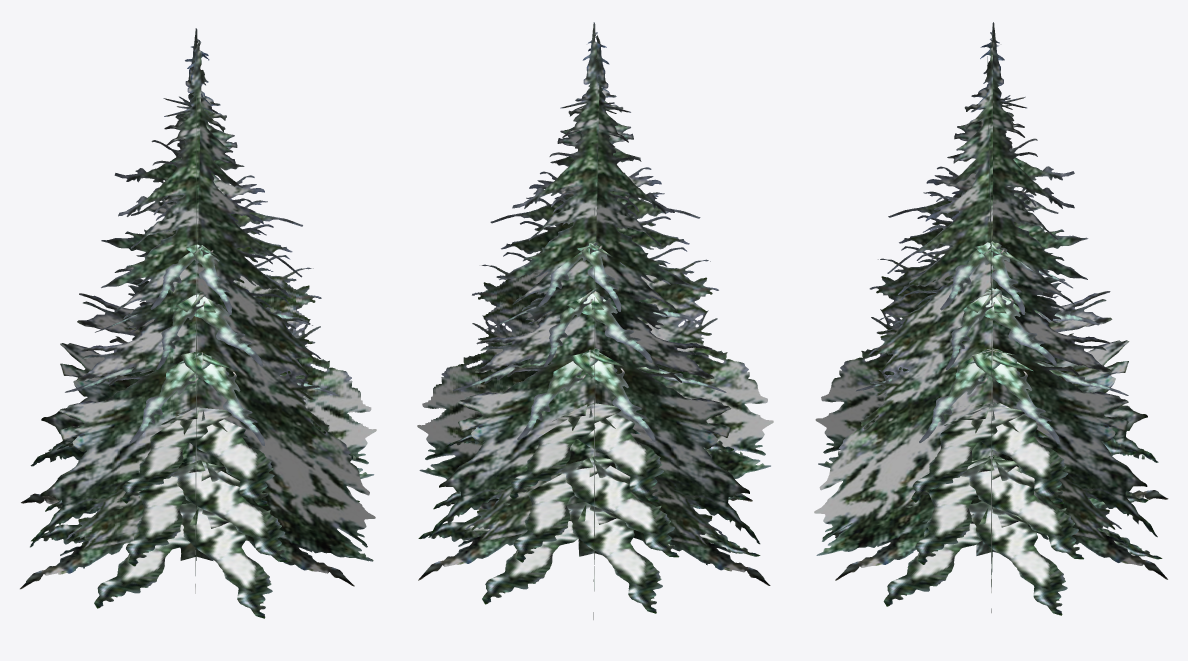
Rendered from arbol.obj.
3 views of the same model, side by side, from view 1: azimuth 30°, elevation 25°; view 2: azimuth 150°, elevation 25°; view 3: azimuth 270°, elevation 25° (orthographic).
Parts seen in each view (by area): view 1: Malla de Mesh39 Model, Malla de Mesh37 Model, Malla de Mesh10 Group3 Group1 Model, Malla de Mesh7 Group3 Group1 Model, Malla de Mesh9 Group3 Group1 Model, Malla de Mesh15 Group4 Group1 Model, Malla de Mesh13 Group4 Group1 Model, Malla de Mesh16 Group4 Group1 Model, Malla de Mesh11 Group3 Group1 Model, Malla de Mesh17 Group4 Group1 Model, Malla de Mesh12 Group3 Group1 Model, Malla de Mesh8 Group3 Group1 Model (+4 smaller); view 2: Malla de Mesh38 Model, Malla de Mesh37 Model, Malla de Mesh22 Group5 Group1 Model, Malla de Mesh19 Group5 Group1 Model, Malla de Mesh21 Group5 Group1 Model, Malla de Mesh27 Group6 Group1 Model, Malla de Mesh25 Group6 Group1 Model, Malla de Mesh28 Group6 Group1 Model, Malla de Mesh23 Group5 Group1 Model, Malla de Mesh29 Group6 Group1 Model, Malla de Mesh24 Group5 Group1 Model, Malla de Mesh34 Group7 Group1 Model (+5 smaller); view 3: Malla de Mesh39 Model, Malla de Mesh38 Model, Malla de Mesh34 Group7 Group1 Model, Malla de Mesh31 Group7 Group1 Model, Malla de Mesh33 Group7 Group1 Model, Malla de Mesh3 Group2 Group1 Model, Malla de Mesh1 Group2 Group1 Model, Malla de Mesh4 Group2 Group1 Model, Malla de Mesh35 Group7 Group1 Model, Malla de Mesh5 Group2 Group1 Model, Malla de Mesh36 Group7 Group1 Model, Malla de Mesh32 Group7 Group1 Model (+7 smaller).
Boxes of the visible parts, x1,y1,x2,y2 form: Malla de Mesh39 Model: (21,28,375,586); Malla de Mesh37 Model: (20,40,376,589); Malla de Mesh10 Group3 Group1 Model: (179,503,272,618); Malla de Mesh7 Group3 Group1 Model: (171,461,288,562); Malla de Mesh9 Group3 Group1 Model: (177,408,274,514); Malla de Mesh15 Group4 Group1 Model: (115,407,231,508); Malla de Mesh13 Group4 Group1 Model: (126,461,224,566); Malla de Mesh16 Group4 Group1 Model: (94,513,228,608); Malla de Mesh11 Group3 Group1 Model: (181,351,264,445); Malla de Mesh17 Group4 Group1 Model: (129,355,211,443); Malla de Mesh12 Group3 Group1 Model: (176,294,263,366); Malla de Mesh8 Group3 Group1 Model: (186,244,231,314); Malla de Mesh38 Model: (418,22,773,580); Malla de Mesh37 Model: (417,35,770,585); Malla de Mesh22 Group5 Group1 Model: (567,502,662,613); Malla de Mesh19 Group5 Group1 Model: (559,460,679,557); Malla de Mesh21 Group5 Group1 Model: (568,414,663,509); Malla de Mesh27 Group6 Group1 Model: (503,403,620,505); Malla de Mesh25 Group6 Group1 Model: (513,456,613,562); Malla de Mesh28 Group6 Group1 Model: (482,511,616,604); Malla de Mesh23 Group5 Group1 Model: (570,352,655,441); Malla de Mesh29 Group6 Group1 Model: (517,348,599,440); Malla de Mesh24 Group5 Group1 Model: (567,291,652,362); Malla de Mesh34 Group7 Group1 Model: (418,503,586,541); Malla de Mesh39 Model: (814,28,1168,580); Malla de Mesh38 Model: (815,22,1167,579); Malla de Mesh34 Group7 Group1 Model: (969,502,1067,615); Malla de Mesh31 Group7 Group1 Model: (960,456,1083,559); Malla de Mesh33 Group7 Group1 Model: (966,403,1068,511); Malla de Mesh3 Group2 Group1 Model: (905,404,1024,507); Malla de Mesh1 Group2 Group1 Model: (915,458,1017,564); Malla de Mesh4 Group2 Group1 Model: (883,501,1022,606); Malla de Mesh35 Group7 Group1 Model: (972,349,1060,444); Malla de Mesh5 Group2 Group1 Model: (919,349,1001,442); Malla de Mesh36 Group7 Group1 Model: (967,288,1056,365); Malla de Mesh32 Group7 Group1 Model: (974,243,1024,314).
Bounding box in the file's own units: 3.59 × 5.11 × 3.11.
